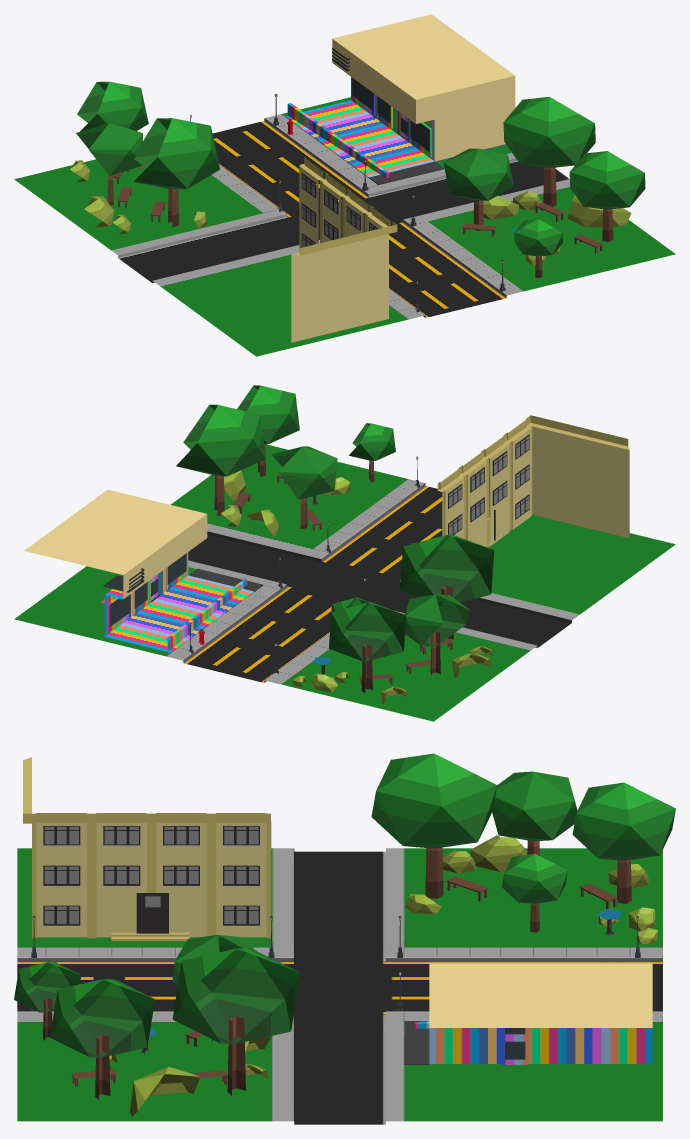
The model's file is tiles.3.glb.
3 views of the same model, one above another, from view 1: azimuth 30°, elevation 25°; view 2: azimuth 150°, elevation 25°; view 3: azimuth 270°, elevation 25° (orthographic). The views are drawn at different scales.
Visible parts, largest first — view 1: Road, Brave, Building.001, Tree.001, Tree.006, Tree.004, Tree, Tree.007, Tree.002, Tree.003, Shrubs.004, Shrubs (+1 smaller); view 2: Road, Brave, Building.001, Tree.006, Tree.001, Tree.007, Tree.002, Tree, Tree.004, Tree.003; view 3: Road, Building.001, Brave, Tree.001, Tree.006, Tree.004, Tree.007, Tree.002, Tree.005, Tree.003, Shrubs.004, Shrubs.010 (+2 smaller).
Part boxes in pixels (x1=…): Road: x1=14, y1=97, x2=675, y2=356; Brave: x1=285, y1=14, x2=515, y2=184; Building.001: x1=291, y1=156, x2=397, y2=342; Tree.001: x1=503, y1=96, x2=595, y2=206; Tree.006: x1=134, y1=118, x2=220, y2=227; Tree.004: x1=569, y1=151, x2=645, y2=241; Tree: x1=443, y1=148, x2=513, y2=230; Tree.007: x1=77, y1=81, x2=148, y2=131; Tree.002: x1=76, y1=122, x2=142, y2=205; Tree.003: x1=514, y1=219, x2=562, y2=277; Shrubs.004: x1=567, y1=194, x2=631, y2=227; Shrubs: x1=473, y1=196, x2=519, y2=219; Road: x1=14, y1=444, x2=675, y2=721; Brave: x1=24, y1=489, x2=263, y2=653; Building.001: x1=437, y1=415, x2=629, y2=547; Tree.006: x1=400, y1=534, x2=493, y2=639; Tree.001: x1=176, y1=404, x2=265, y2=515; Tree.007: x1=329, y1=602, x2=405, y2=692; Tree.002: x1=405, y1=594, x2=470, y2=675; Tree: x1=271, y1=446, x2=337, y2=528; Tree.004: x1=237, y1=385, x2=299, y2=476; Tree.003: x1=349, y1=423, x2=395, y2=482; Road: x1=17, y1=848, x2=662, y2=1124; Building.001: x1=23, y1=757, x2=271, y2=941; Brave: x1=404, y1=963, x2=652, y2=1064; Tree.001: x1=172, y1=948, x2=300, y2=1095; Tree.006: x1=371, y1=753, x2=497, y2=898; Tree.004: x1=50, y1=979, x2=154, y2=1099; Tree.007: x1=572, y1=782, x2=675, y2=903; Tree.002: x1=492, y1=771, x2=577, y2=855; Tree.005: x1=502, y1=853, x2=567, y2=932; Tree.003: x1=14, y1=962, x2=81, y2=1040; Shrubs.004: x1=130, y1=1067, x2=200, y2=1116; Shrubs.010: x1=470, y1=835, x2=527, y2=872.
Size of the model in its own units: 40.09 by 10.23 by 41.
Materials: 3 (3 with a texture image).
